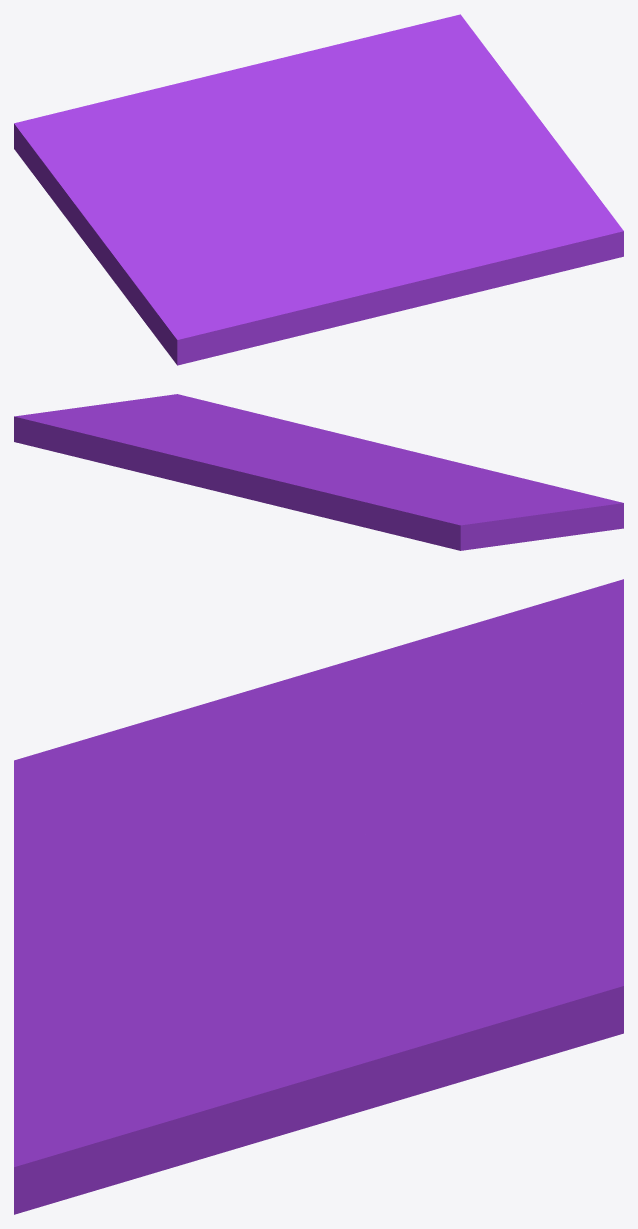
The model's file is Window_154_chunks.fbx.
3 views of the same model, one above another, from view 1: azimuth 30°, elevation 25°; view 2: azimuth 150°, elevation 25°; view 3: azimuth 270°, elevation 25° (orthographic). The views are drawn at different scales.
Visible parts, largest first — view 1: Window_154_1, Window_154_0, Window_154_2, Window_154_3; view 2: Window_154_1, Window_154_2, Window_154_0, Window_154_3; view 3: Window_154_1, Window_154_0, Window_154_2, Window_154_3.
Boxes of the visible parts, bbox=[...] form: Window_154_1: bbox=[14, 97, 332, 365]; Window_154_0: bbox=[324, 108, 623, 327]; Window_154_2: bbox=[121, 14, 530, 174]; Window_154_3: bbox=[276, 163, 337, 231]; Window_154_1: bbox=[331, 462, 623, 550]; Window_154_2: bbox=[14, 407, 353, 521]; Window_154_0: bbox=[84, 394, 468, 465]; Window_154_3: bbox=[303, 455, 383, 468]; Window_154_1: bbox=[14, 579, 623, 900]; Window_154_0: bbox=[14, 885, 379, 1214]; Window_154_2: bbox=[314, 677, 623, 1105]; Window_154_3: bbox=[186, 830, 377, 890].
Size of the model in its own units: 1838 by 482 by 1165.
